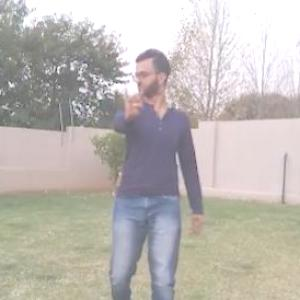takeoff-hand: (116, 79, 147, 119)
